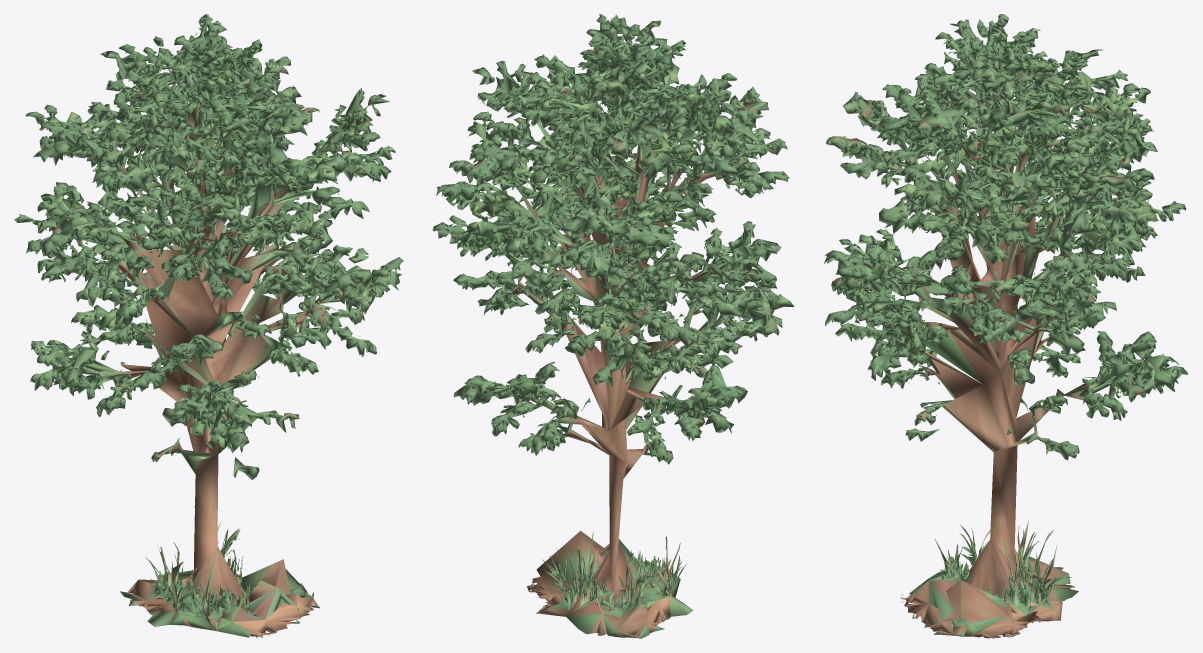
Rendered from verdant-tree.glb.
The picture shows the model from 3 angles, left to right: view 1: azimuth 30°, elevation 25°; view 2: azimuth 150°, elevation 25°; view 3: azimuth 270°, elevation 25°; orthographic projection.
Visible parts, largest first — view 1: verdant-tree; view 2: verdant-tree; view 3: verdant-tree.
Boxes of the visible parts, box(x1,y1,x2,y2) form: verdant-tree: box(14, 14, 403, 638); verdant-tree: box(432, 14, 794, 638); verdant-tree: box(824, 14, 1188, 638).
Size of the model in its own units: 3 by 5.4 by 3.06.
1 material, 1 textured.
